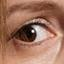eye: (20, 27, 36, 42)
